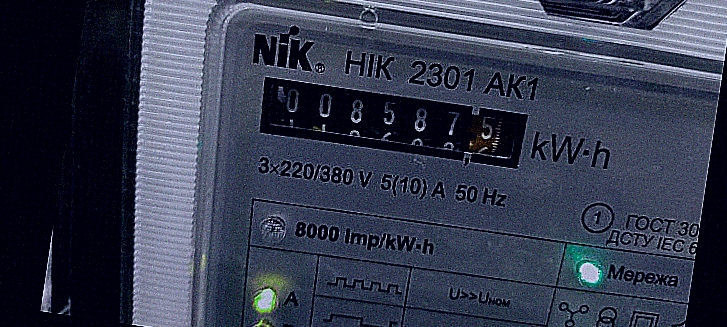0: (281, 83, 302, 115), (314, 89, 335, 120)
5: (476, 113, 497, 144), (378, 98, 399, 128)
7: (441, 106, 462, 138)
8: (409, 103, 430, 135), (346, 95, 366, 125)
screen: (236, 58, 547, 184)
